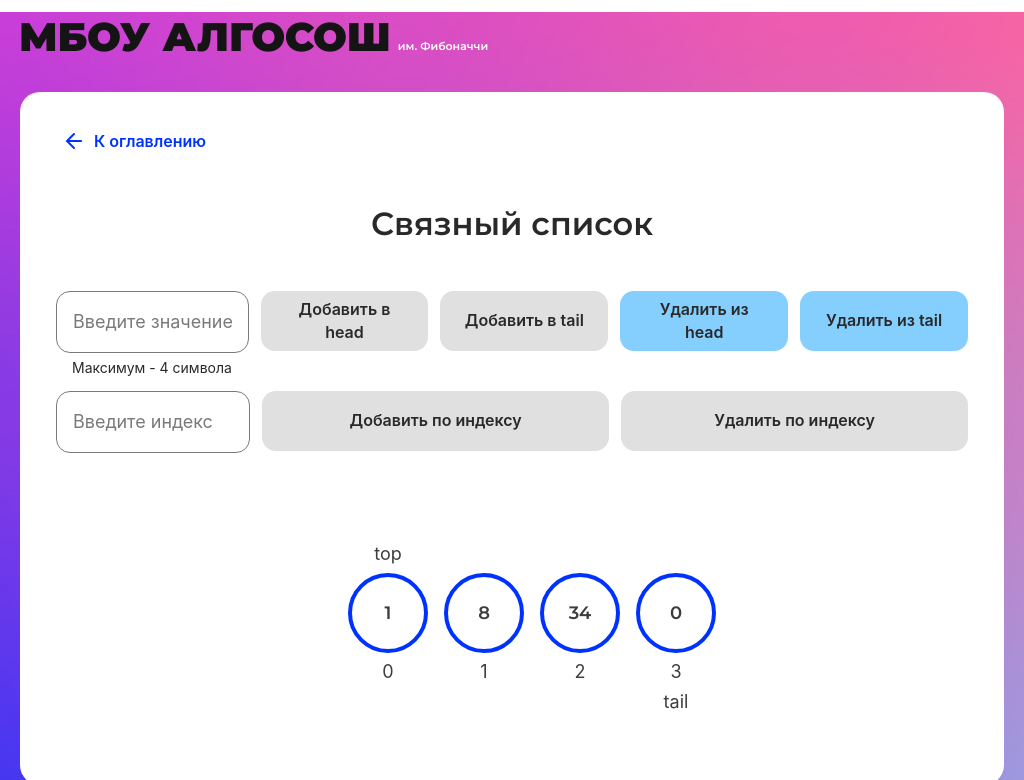
Scenario: list tests › correctness of adding an element to the head
In the field with test id "list-input-value": (153, 322) [56,291,249,353], type "22"
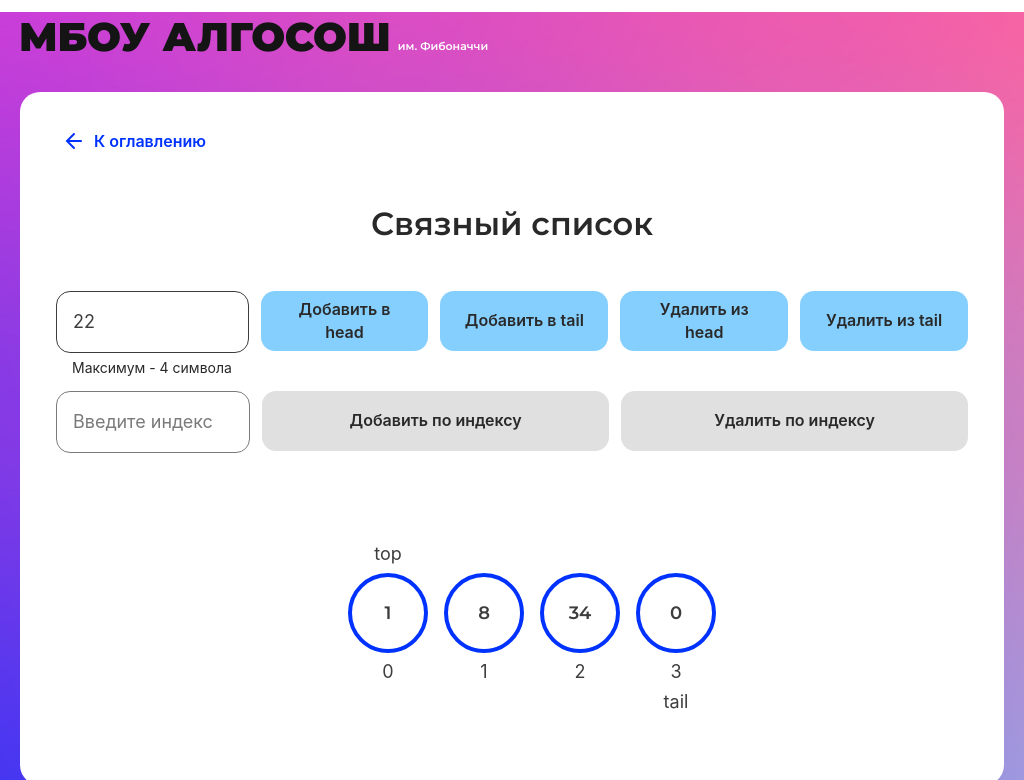
Expected: the element with test id "add-in-head-btn" is enabled
Click the button with test id "add-in-head-btn": (345, 321) [261,291,429,351]
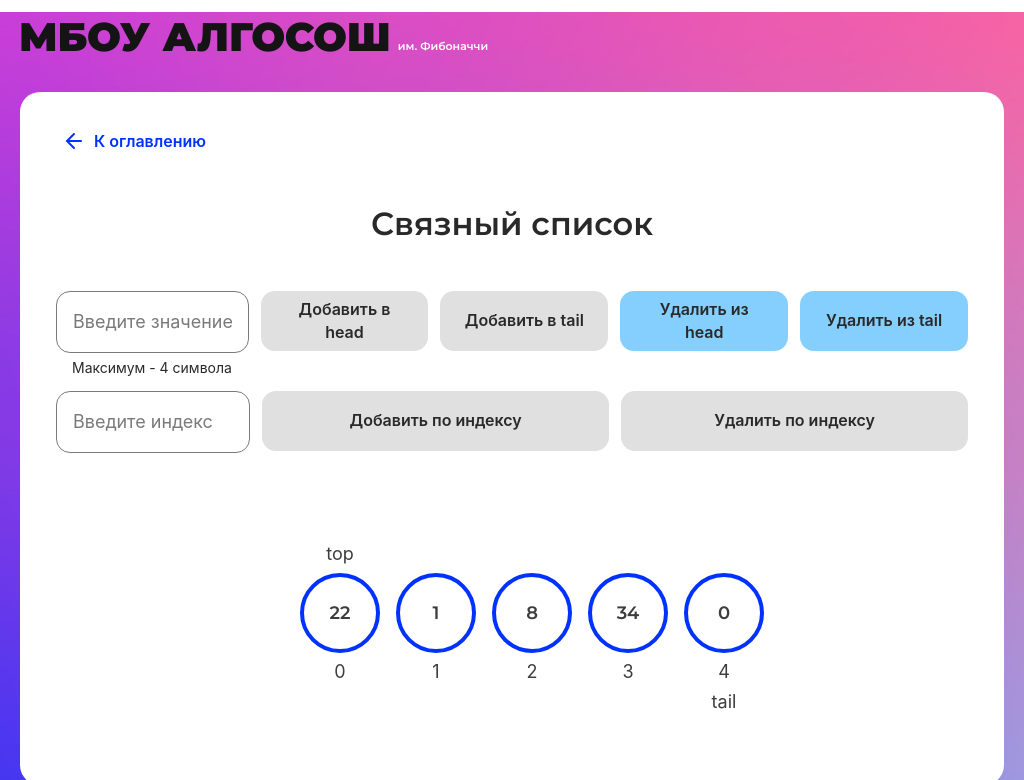
Expected: the text with test id "circle-head" reads "top", [326,543,354,565]
Now the element with test id "circle" reads "22", box [300,573,380,653]
